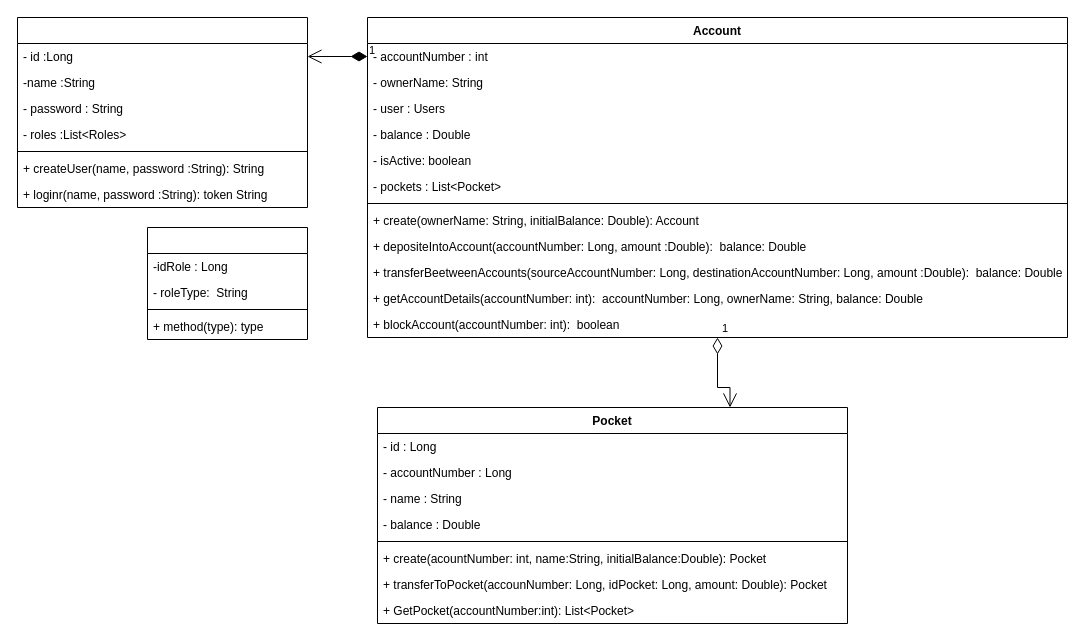
Image size: 1085x644. Some labels were removed from this diagram. The shapes that lost their labels are listed below. From the top down, each one's box as (x1, y1, x2, y2) in pixels, then its label:
(16, 16, 308, 208): Users
(146, 226, 308, 340): Roles
